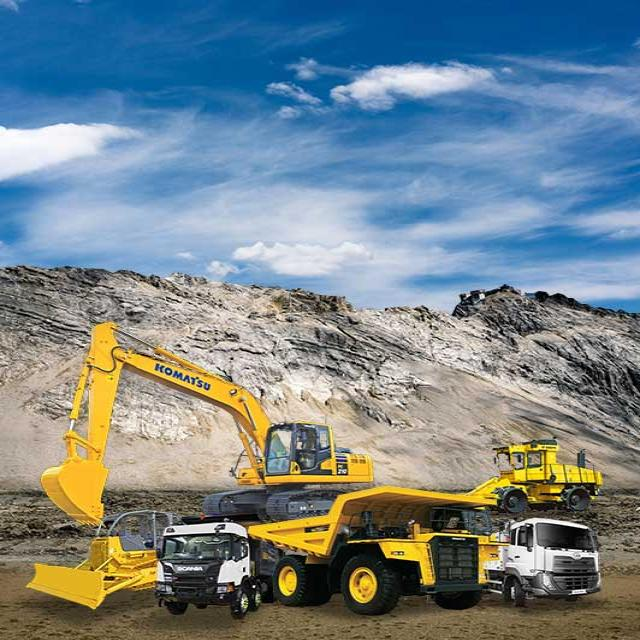dump_truck: (250, 488, 498, 614)
